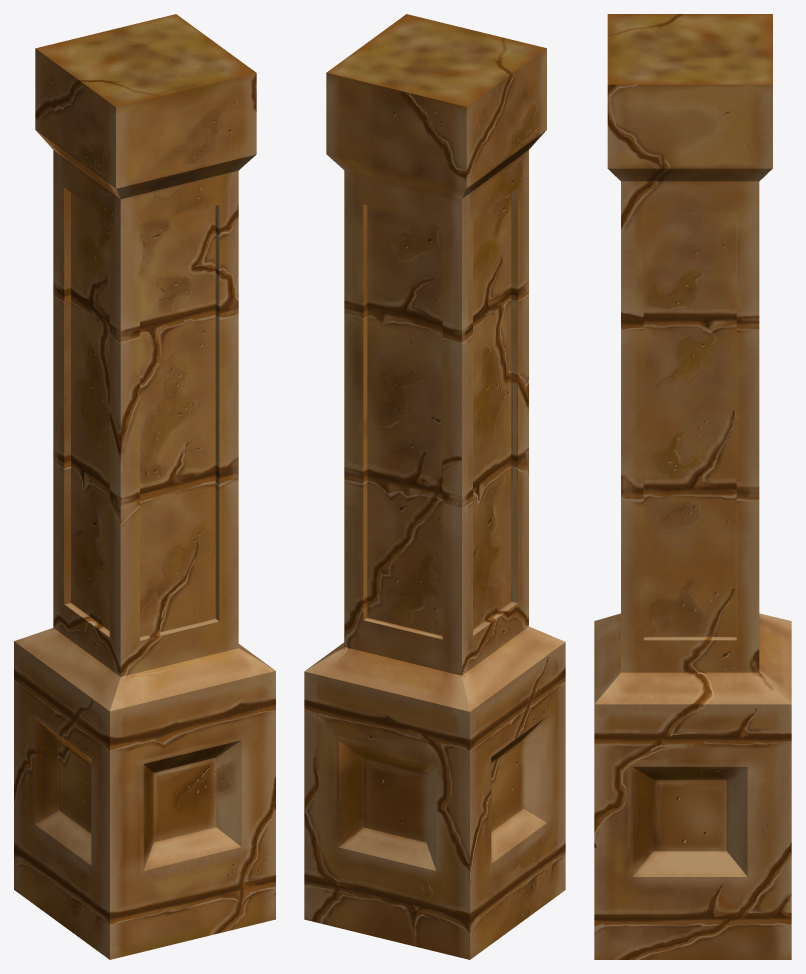
File: sand_pillar.glb
3 views of the same model, side by side, from view 1: azimuth 30°, elevation 25°; view 2: azimuth 150°, elevation 25°; view 3: azimuth 270°, elevation 25° (orthographic). The views are drawn at different scales.
Visible parts, largest first — view 1: Box001; view 2: Box001; view 3: Box001.
Part boxes in pixels (x1=…): Box001: x1=14, y1=14, x2=275, y2=959; Box001: x1=304, y1=14, x2=565, y2=959; Box001: x1=594, y1=14, x2=791, y2=959.
Bounding box in the file's own units: 500 × 2432 × 500.
1 material, 1 textured.
